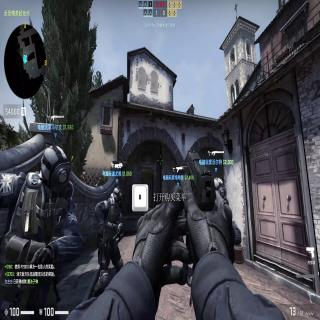CT-Head: (40, 144, 74, 201), (111, 187, 123, 208)
